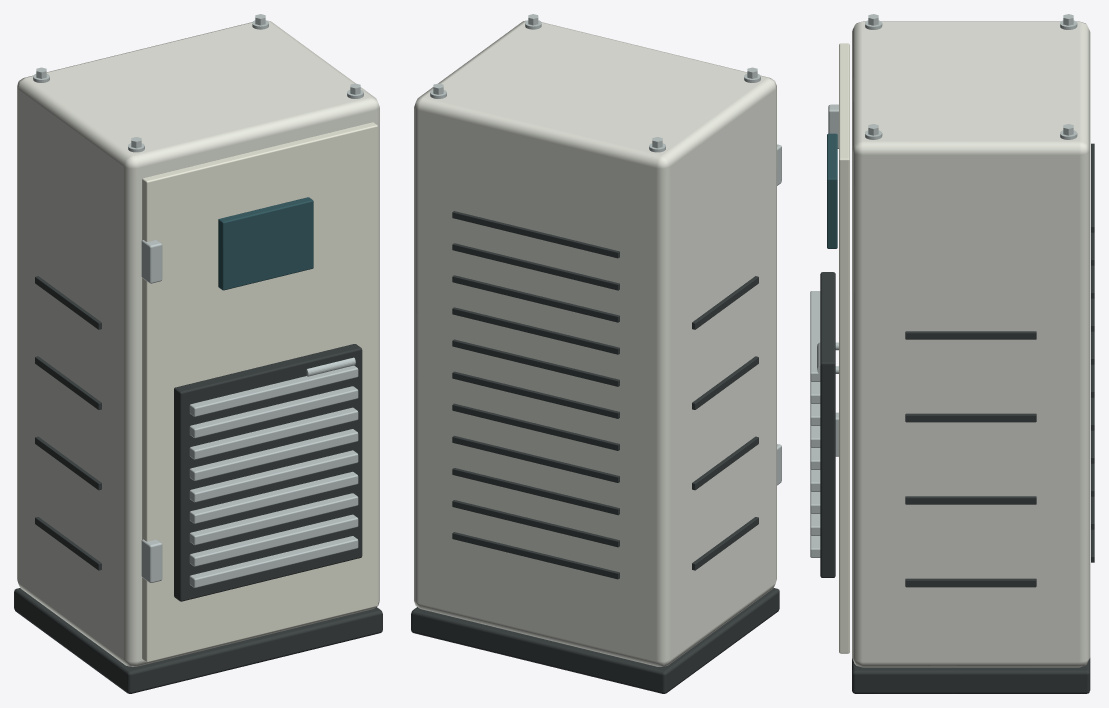
File: generation-ship-hydroponics-generation-ship-hydroponic-d6ba5d75__31496.glb
3 views of the same model, side by side, from view 1: azimuth 30°, elevation 25°; view 2: azimuth 150°, elevation 25°; view 3: azimuth 270°, elevation 25° (orthographic). The views are drawn at different scales.
Parts seen in each view (by area): view 1: generation-ship-hydroponics-humidity-scrubber; view 2: generation-ship-hydroponics-humidity-scrubber; view 3: generation-ship-hydroponics-humidity-scrubber.
Boxes of the visible parts, left/top/right/bottom form: generation-ship-hydroponics-humidity-scrubber: left=14, top=14, right=382, bottom=693; generation-ship-hydroponics-humidity-scrubber: left=411, top=14, right=781, bottom=693; generation-ship-hydroponics-humidity-scrubber: left=810, top=14, right=1094, bottom=693.
Size of the model in its own units: 0.722 by 1.42 by 0.6565.
